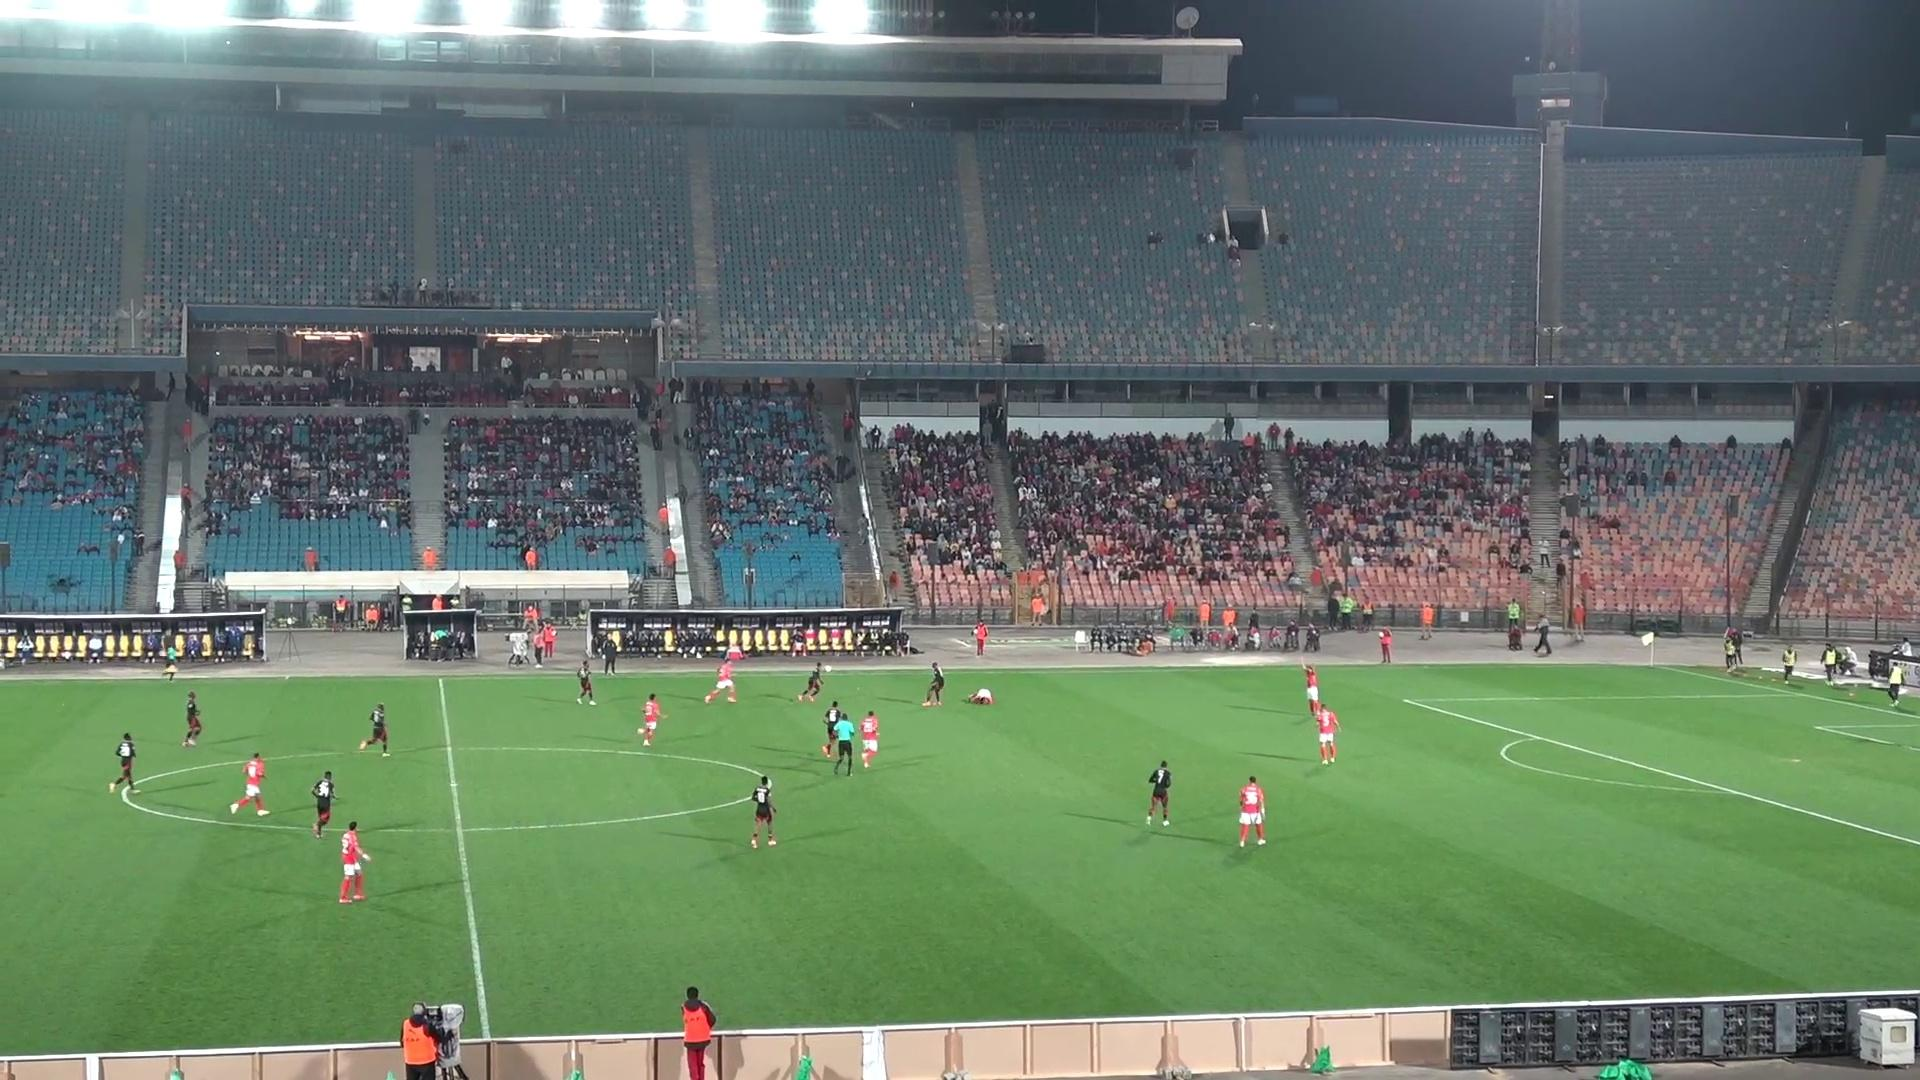Ball: (814, 662, 833, 679)
Refree: (831, 704, 855, 775), (162, 634, 179, 680)
Team1: (338, 822, 371, 903), (229, 753, 269, 815), (704, 649, 741, 702), (1308, 700, 1337, 764), (1238, 777, 1265, 845), (851, 711, 880, 767), (637, 694, 663, 746), (1302, 665, 1327, 720), (529, 622, 559, 666), (963, 687, 996, 705)
Team2: (749, 775, 775, 849), (823, 700, 853, 758), (1145, 762, 1172, 825), (311, 770, 336, 837), (357, 703, 389, 756), (107, 733, 136, 790), (179, 690, 203, 748), (794, 663, 827, 702), (920, 662, 945, 707), (576, 655, 596, 704)
